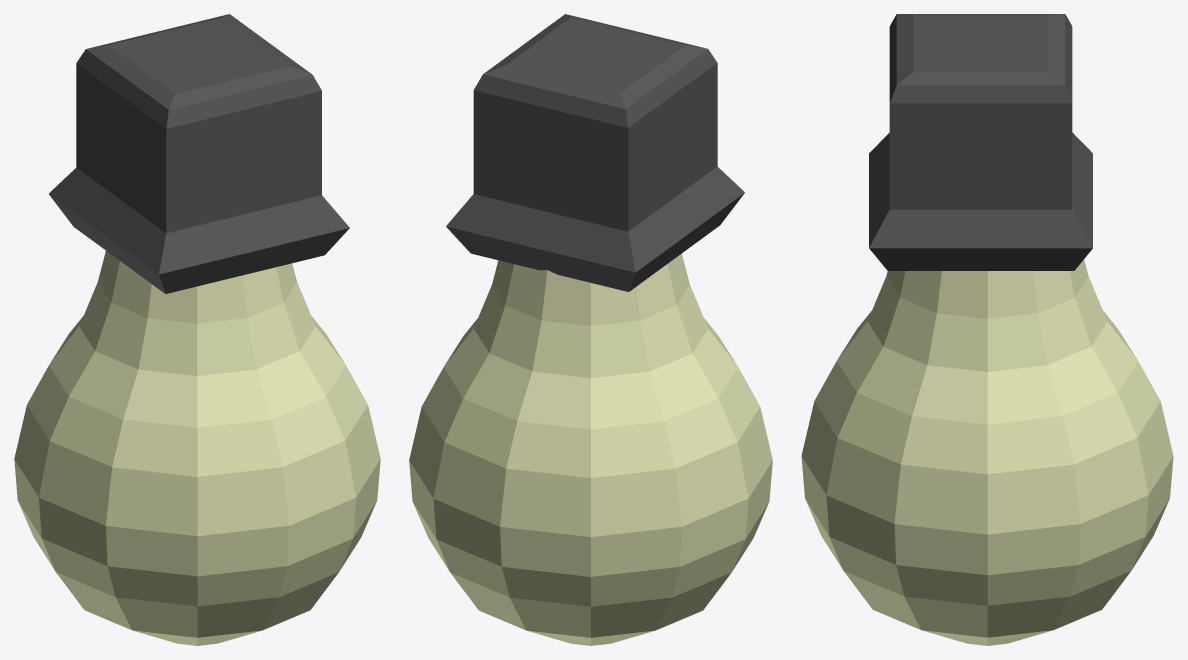
Rendered from Stone_Lampu_01a.fbx.
3 views of the same model, side by side, from view 1: azimuth 30°, elevation 25°; view 2: azimuth 150°, elevation 25°; view 3: azimuth 270°, elevation 25° (orthographic). The views are drawn at different scales.
Visible parts, largest first — view 1: Lampu; view 2: Lampu; view 3: Lampu.
Part boxes in pixels (x1=…): Lampu: x1=14, y1=14, x2=380, y2=645; Lampu: x1=409, y1=14, x2=772, y2=645; Lampu: x1=801, y1=14, x2=1173, y2=645.
Size of the model in its own units: 96.96 by 168 by 96.96.
